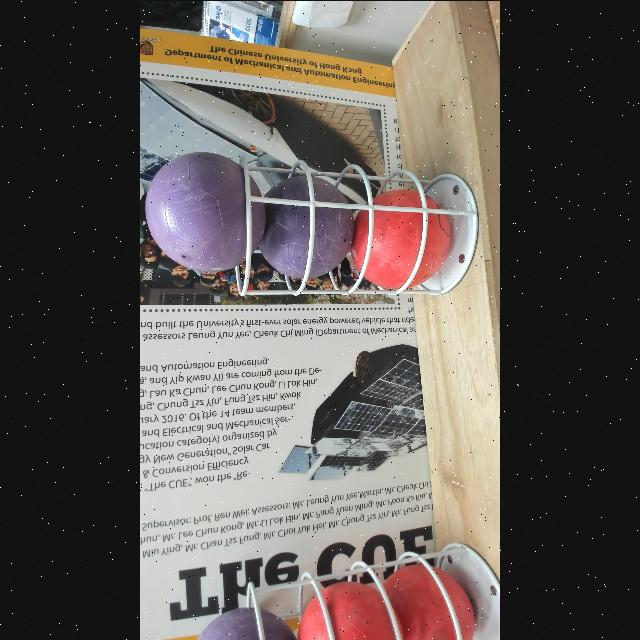P: (143, 148, 270, 274), (256, 172, 358, 280), (188, 604, 302, 640)
R: (350, 186, 454, 294), (370, 558, 478, 640), (294, 578, 408, 640)
S: (233, 149, 481, 297), (244, 540, 501, 640)
